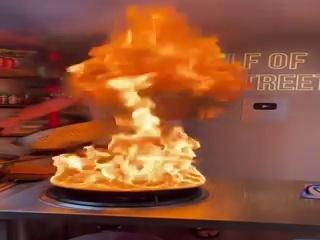Fire: (41, 47, 220, 192)
